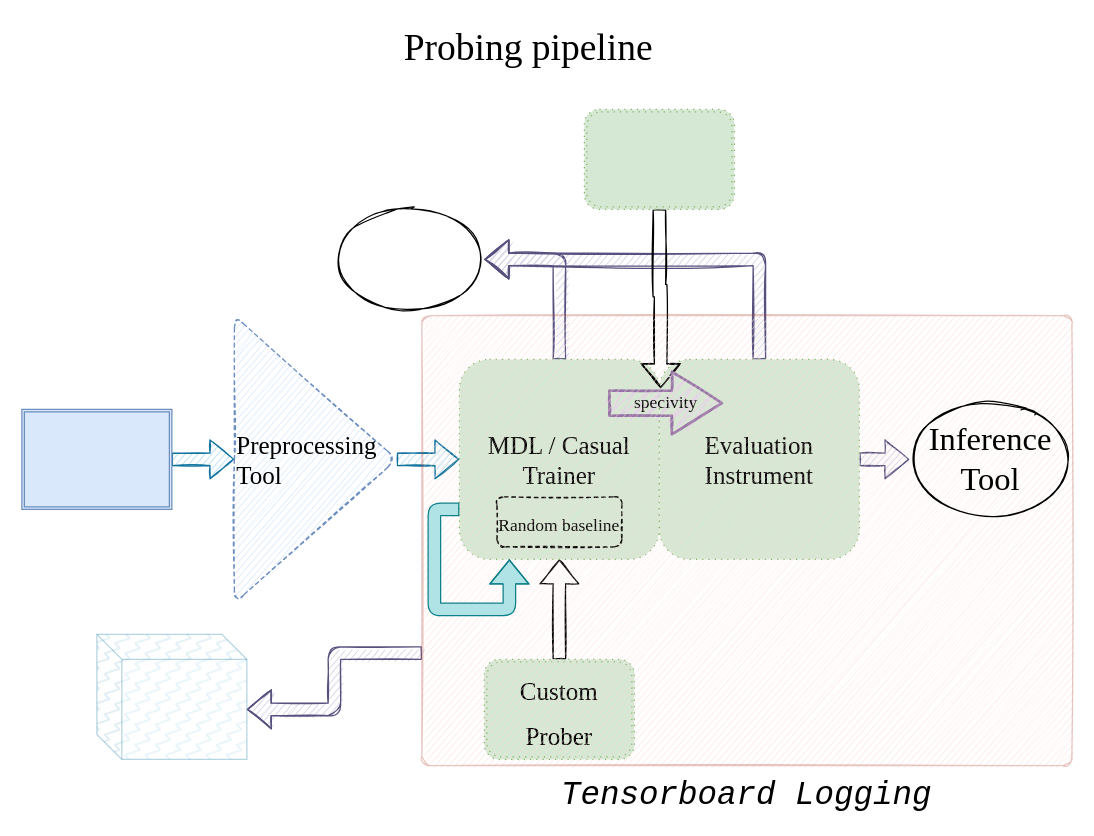
This 1094x836 diagram has some shape labels left out. The shapes that lost their labels are listed below. From the top down, each one's centre as x and y in pixels, then its label:
(x=658, y=158): Custom Loss Function
(x=408, y=258): Profiler
(x=96, y=458): Data
(x=171, y=696): Logging Directory for Checkpoints
